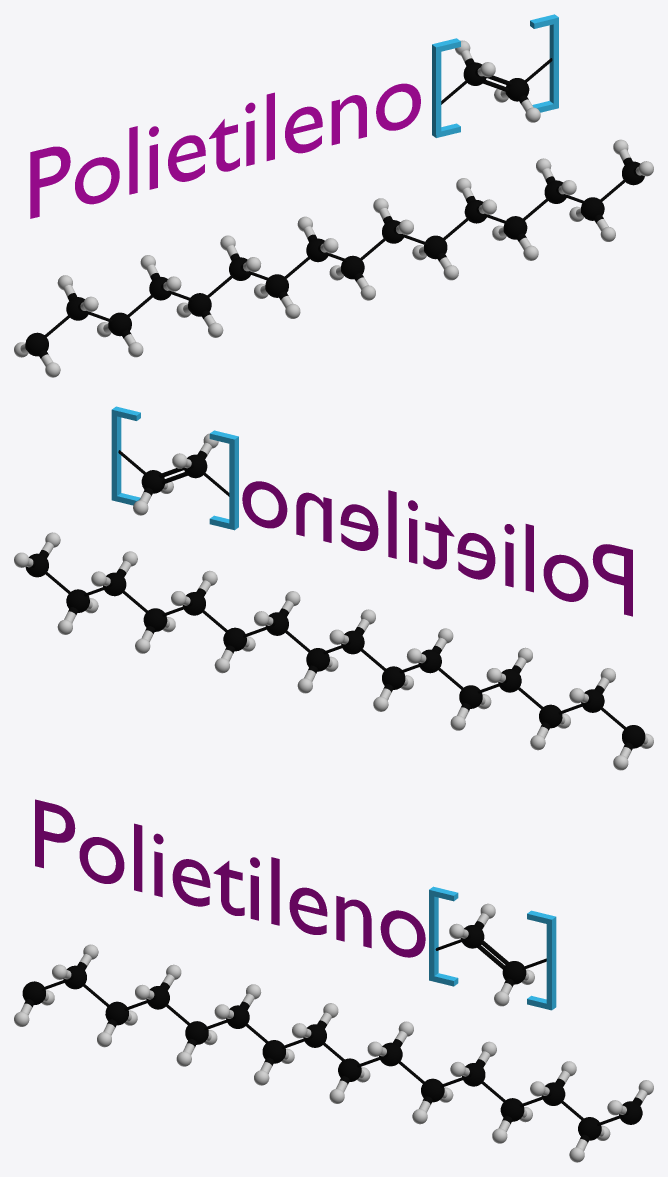
File: polietileno.obj
3 renders of one model, top to bottom at view 1: azimuth 30°, elevation 25°; view 2: azimuth 150°, elevation 25°; view 3: azimuth 330°, elevation 25°, orthographic.
Parts seen in each view (by area): view 1: Text_Text.075, Cube.001_Cube.014, Cube.002_Cube.015; view 2: Text_Text.075, Cube.002_Cube.015, Cube.001_Cube.014; view 3: Text_Text.075, Cube.002_Cube.015, Cube.001_Cube.014.
Part boxes in pixels (x1,y1,x2,y2): Text_Text.075: (30, 83, 420, 218); Cube.001_Cube.014: (432, 38, 460, 137); Cube.002_Cube.015: (530, 14, 558, 112); Text_Text.075: (242, 481, 632, 616); Cube.002_Cube.015: (111, 406, 140, 505); Cube.001_Cube.014: (209, 430, 238, 530); Text_Text.075: (35, 799, 425, 957); Cube.002_Cube.015: (527, 910, 556, 1010); Cube.001_Cube.014: (429, 886, 458, 986).
Bounding box in the file's own units: 233 × 81.02 × 23.66.
